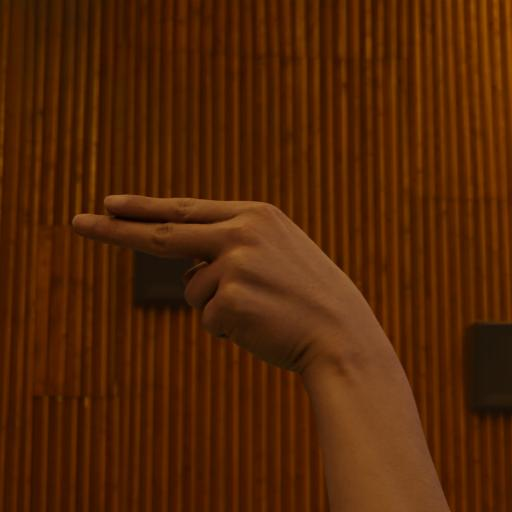H: (49, 175, 387, 384)
